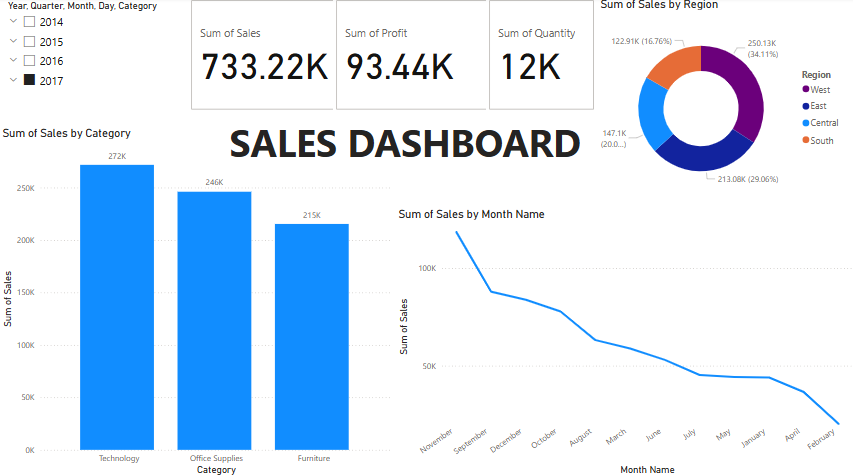

What the dashboard file says about the page in this screenshot:
{"tool":"powerbi","page":{"name":"Page 1","canvas":[1280,720],"ordinal":0},"visuals":[{"type":"cardVisual","fields":{"Data":["Sum(Orders.Sales)"]},"box":[282.3,0,230,173.3],"z":0},{"type":"cardVisual","fields":{"Data":["Sum(Orders.Profit)"]},"box":[498.7,0,240.5,173.8],"z":1000},{"type":"cardVisual","fields":{"Data":["Sum(Orders.Quantity)"]},"box":[726.9,0,166.8,173.8],"z":2000},{"type":"columnChart","fields":{"Category":["Orders.Category"],"Y":["Sum(Orders.Sales)"]},"box":[0,193.1,591.7,526.7],"z":3000},{"type":"lineChart","fields":{"Category":["Orders.Month Name"],"Y":["Sum(Orders.Sales)"]},"box":[591.7,314.3,688.3,405.6],"z":4000},{"type":"donutChart","fields":{"Category":["Orders.Region"],"Y":["Sum(Orders.Sales)"]},"box":[893.7,0,375.7,314.3],"z":5000},{"type":"slicer","fields":{"Values":["Orders.Order Date.Variation.Date Hierarchy.Year","Orders.Order Date.Variation.Date Hierarchy.Quarter","Orders.Order Date.Variation.Date Hierarchy.Month","Orders.Order Date.Variation.Date Hierarchy.Day","Orders.Category"]},"box":[0,0,282.3,173.3],"z":6000},{"type":"textbox","box":[339.1,173.3,554.2,104.6],"z":6001}]}

Visuals, with their boxes in screenshot pixels (x1, y1, x2, y2), scaled from the page's 1280x720 canvas onto the 853x475 screenshot:
cardVisual - Sum(Orders.Sales): Rect(188, 0, 341, 114)
cardVisual - Sum(Orders.Profit): Rect(332, 0, 493, 115)
cardVisual - Sum(Orders.Quantity): Rect(484, 0, 596, 115)
columnChart - Orders.Category x Sum(Orders.Sales): Rect(0, 127, 394, 474)
lineChart - Orders.Month Name x Sum(Orders.Sales): Rect(394, 207, 852, 474)
donutChart - Orders.Region x Sum(Orders.Sales): Rect(596, 0, 846, 207)
slicer - Orders.Order Date.Variation.Date Hierarchy.Year x Orders.Order Date.Variation.Date Hierarchy.Quarter: Rect(0, 0, 188, 114)
textbox: Rect(226, 114, 595, 183)
